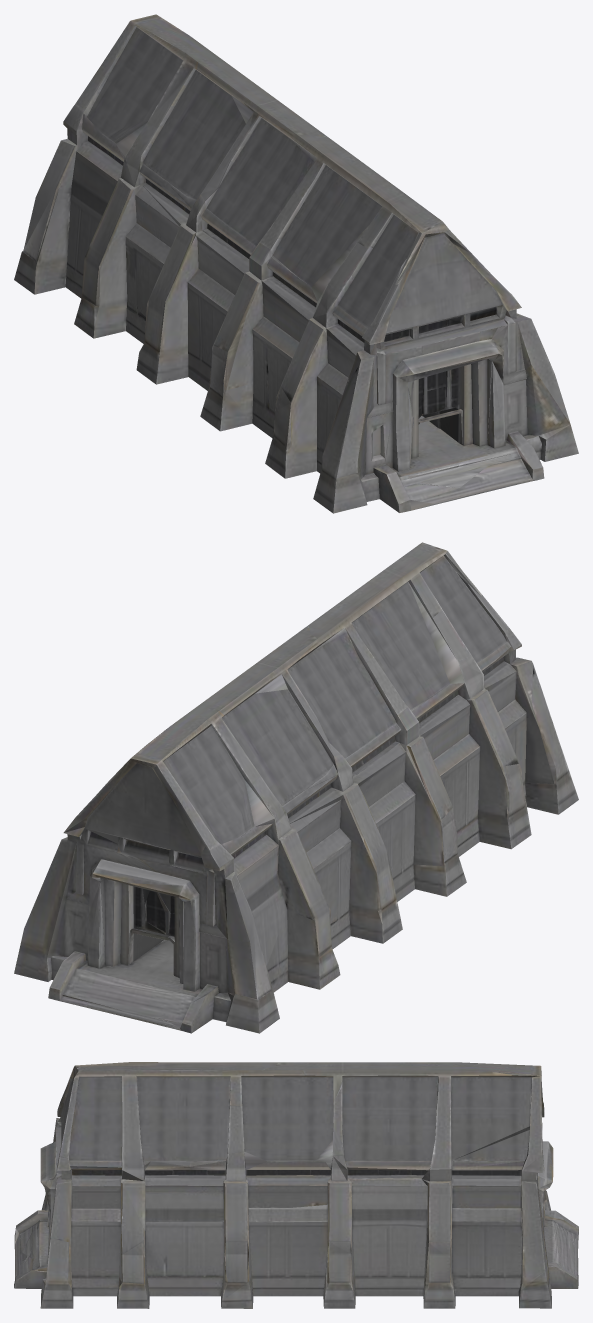
File: imperial_temple_hall_of_heroes_lod2.glb
3 views of the same model, one above another, from view 1: azimuth 30°, elevation 25°; view 2: azimuth 150°, elevation 25°; view 3: azimuth 270°, elevation 25° (orthographic). The views are drawn at different scales.
Parts seen in each view (by area): view 1: mesh_node; view 2: mesh_node; view 3: mesh_node.
Part boxes in pixels (<box>): mesh_node: <box>14,14,578,513</box>; mesh_node: <box>14,542,578,1033</box>; mesh_node: <box>14,1062,578,1308</box>.
Size of the model in its own units: 19.12 by 18.02 by 47.37.
1 material, 1 textured.
